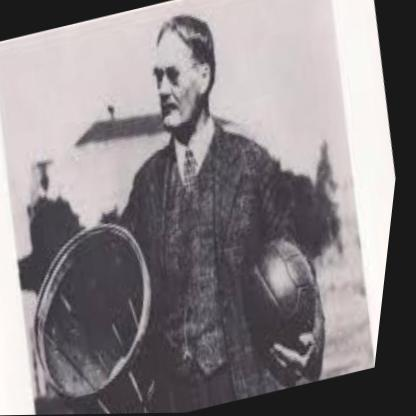basketball: (229, 235, 343, 371)
